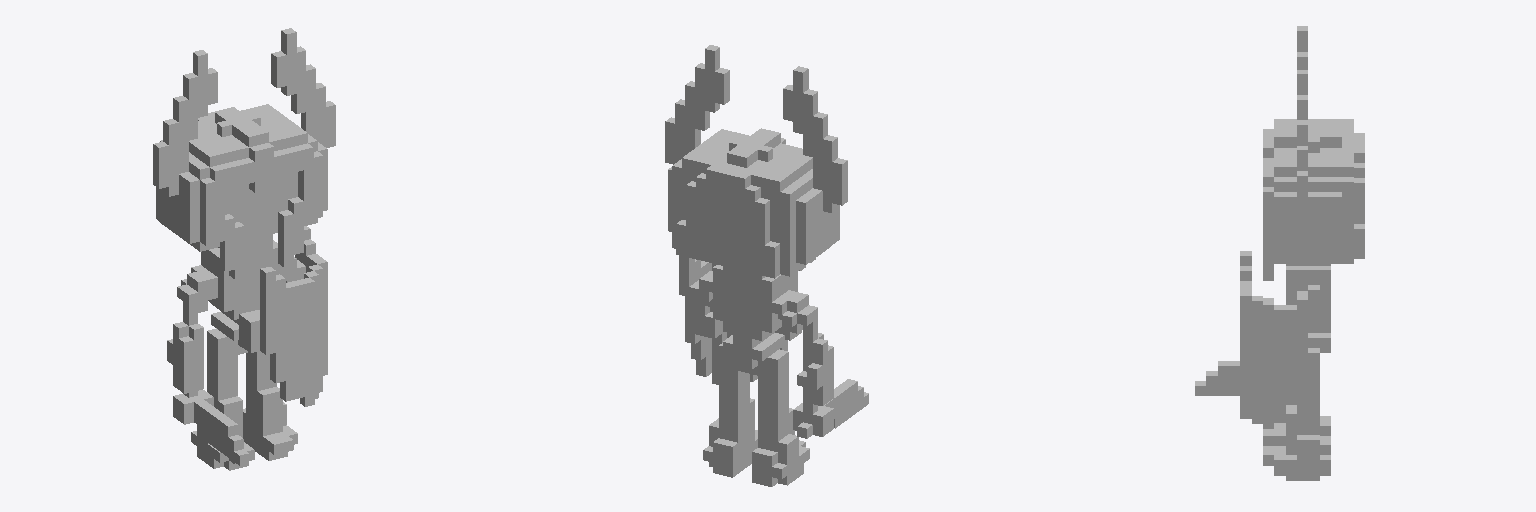
The model's file is knight2.obj.
3 views of the same model, side by side, from view 1: azimuth 30°, elevation 25°; view 2: azimuth 150°, elevation 25°; view 3: azimuth 270°, elevation 25° (orthographic).
Visible parts, largest first — view 1: object 1; view 2: object 1; view 3: object 1.
Boxes of the visible parts, x1,y1,x2,y2 form: object 1: [153, 28, 335, 470]; object 1: [665, 45, 868, 486]; object 1: [1195, 26, 1364, 480].
Size of the model in its own units: 1.8 by 4 by 1.5.